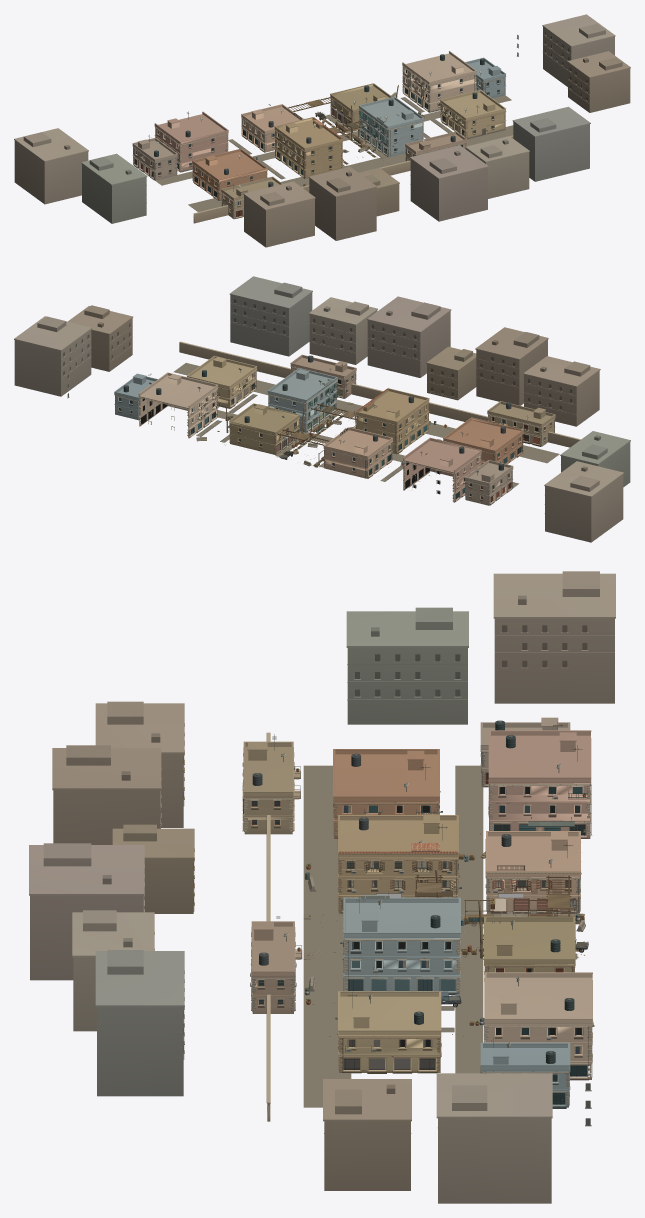
File: south.glb
3 renders of one model, top to bottom at view 1: azimuth 30°, elevation 25°; view 2: azimuth 150°, elevation 25°; view 3: azimuth 270°, elevation 25°, orthographic. The views are drawn at different scales.
Visible parts, largest first — view 1: ML_south_skyline.009, ML_south_skyline, ML_south_skyline.006, ML_south_skyline.004, ML_south_plaster.003, ML_south_plaster.002, ML_south_plaster.004, ML_south_skyline.013, ML_south_skyline.012, ML_south_plaster, ML_south_plaster.007, ML_south_plaster.005 (+10 smaller); view 2: ML_south_skyline.006, ML_south_plaster.002, ML_south_skyline, ML_south_skyline.004, ML_south_skyline.009, ML_south_plaster.003, ML_south_skyline.012, ML_south_plaster.004, ML_south_plaster, ML_south_skyline.013, ML_south_plaster.007, ML_south_plaster.008 (+13 smaller); view 3: ML_south_skyline.009, ML_south_plaster.002, ML_south_skyline.006, ML_south_plaster.003, ML_south_skyline.004, ML_south_skyline.012, ML_south_plaster.004, ML_south_skyline, ML_south_road.001, ML_south_skyline.013, ML_south_plaster.008, ML_south_road (+13 smaller).
Part boxes in pixels (box(x1,y1,x2,y2)): ML_south_skyline.009: box(14, 128, 147, 223); ML_south_skyline: box(243, 166, 377, 247); ML_south_skyline.006: box(465, 106, 590, 198); ML_south_skyline.004: box(359, 145, 488, 221); ML_south_plaster.003: box(155, 109, 305, 182); ML_south_plaster.002: box(241, 83, 423, 156); ML_south_plaster.004: box(373, 53, 506, 134); ML_south_skyline.013: box(567, 51, 630, 112); ML_south_skyline.012: box(542, 14, 615, 86); ML_south_plaster: box(193, 118, 513, 223); ML_south_plaster.007: box(132, 123, 219, 200); ML_south_plaster.005: box(401, 101, 505, 155); ML_south_skyline.006: box(229, 276, 377, 364); ML_south_plaster.002: box(229, 373, 428, 478); ML_south_skyline: box(475, 327, 600, 426); ML_south_skyline.004: box(367, 296, 476, 400); ML_south_skyline.009: box(544, 431, 630, 542); ML_south_plaster.003: box(352, 398, 523, 490); ML_south_skyline.012: box(14, 316, 103, 396); ML_south_plaster.004: box(138, 360, 299, 446); ML_south_plaster: box(179, 341, 580, 447); ML_south_skyline.013: box(68, 305, 133, 371); ML_south_plaster.007: box(453, 430, 523, 505); ML_south_plaster.008: box(114, 356, 214, 426); ML_south_skyline.009: box(346, 571, 615, 724); ML_south_plaster.002: box(337, 816, 585, 976); ML_south_skyline.006: box(72, 910, 184, 1096); ML_south_plaster.003: box(333, 730, 591, 882); ML_south_skyline.004: box(29, 824, 194, 980); ML_south_skyline.012: box(386, 1073, 552, 1203); ML_south_plaster.004: box(338, 932, 594, 1072); ML_south_skyline: box(52, 703, 184, 844); ML_south_road.001: box(303, 765, 351, 1107); ML_south_skyline.013: box(323, 1079, 411, 1190); ML_south_plaster.008: box(338, 1018, 592, 1107); ML_south_road: box(455, 765, 578, 1073).
Size of the model in its own units: 192 by 16.58 by 87.81.
98 materials, 50 textured.
